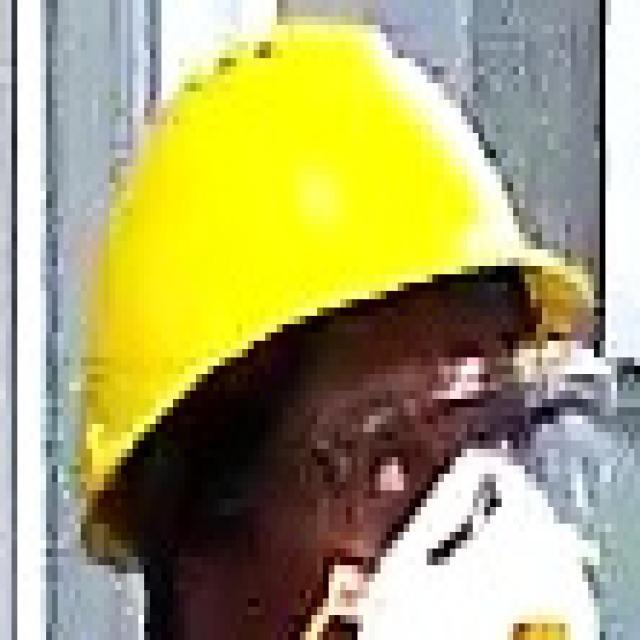yellow helmet: (54, 9, 606, 514)
